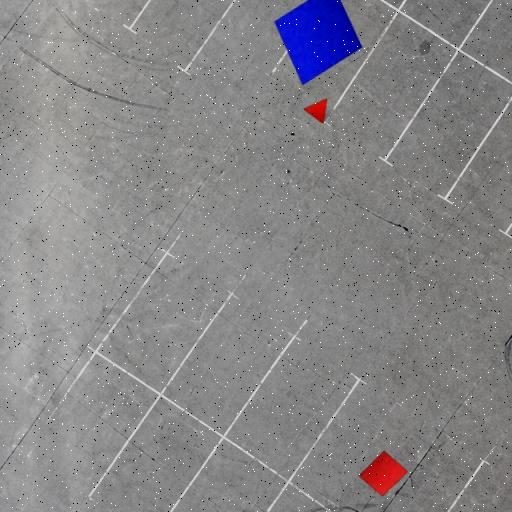BLUE_SQUARE: (273, 0, 363, 86)
RED_SQUARE: (358, 450, 408, 498)
